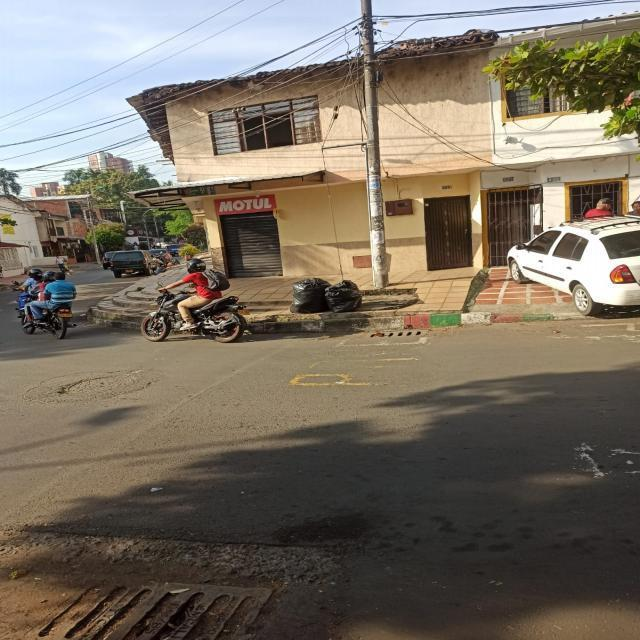Garbage_Bag: (288, 277, 332, 313), (324, 279, 364, 313)
